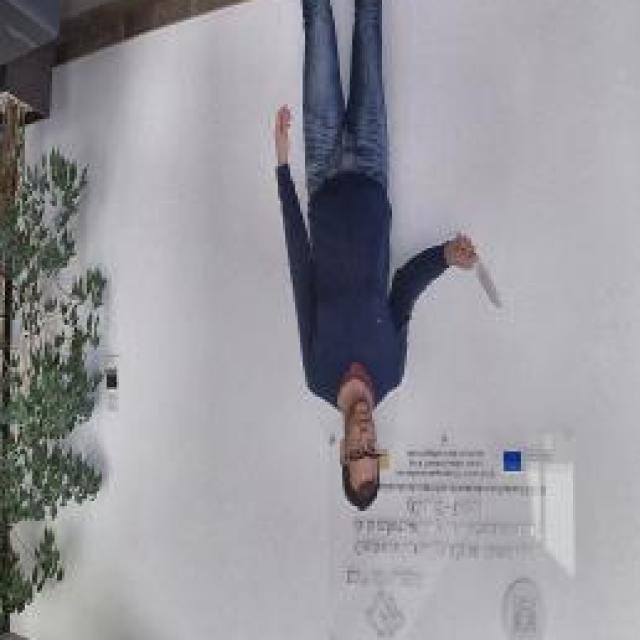knife: (454, 226, 506, 315)
